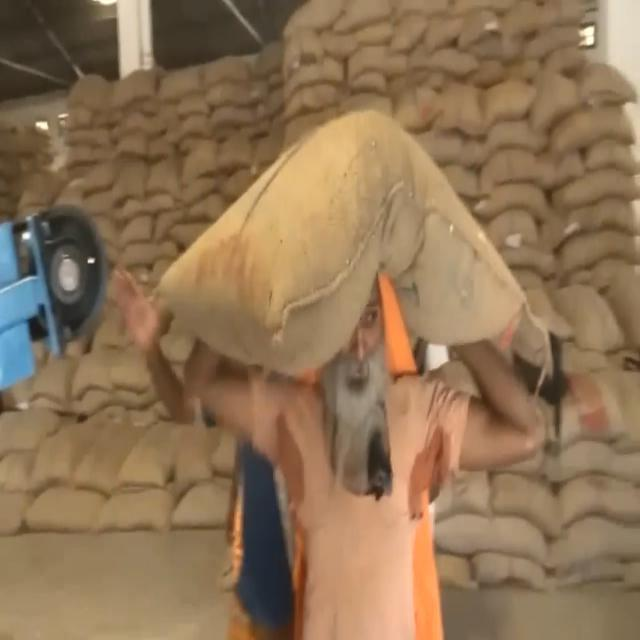gunny_bag: (154, 106, 528, 380), (434, 512, 554, 560), (548, 282, 626, 354), (556, 470, 640, 536), (542, 513, 640, 569), (546, 105, 632, 168), (18, 479, 108, 533), (78, 419, 147, 487), (41, 418, 98, 496), (126, 416, 186, 488), (526, 69, 591, 135), (98, 476, 182, 526), (555, 228, 637, 272), (474, 182, 556, 226), (552, 168, 637, 210), (343, 44, 413, 94), (437, 79, 490, 144), (478, 80, 540, 130), (514, 22, 584, 66), (0, 410, 61, 460), (280, 54, 342, 100), (406, 43, 483, 80), (286, 0, 348, 43), (72, 344, 122, 396), (116, 233, 176, 275), (180, 132, 226, 186), (146, 148, 188, 205), (158, 64, 210, 108), (114, 153, 152, 213), (214, 130, 256, 182), (329, 2, 392, 36), (109, 70, 163, 106), (66, 119, 122, 152), (204, 49, 252, 87)
